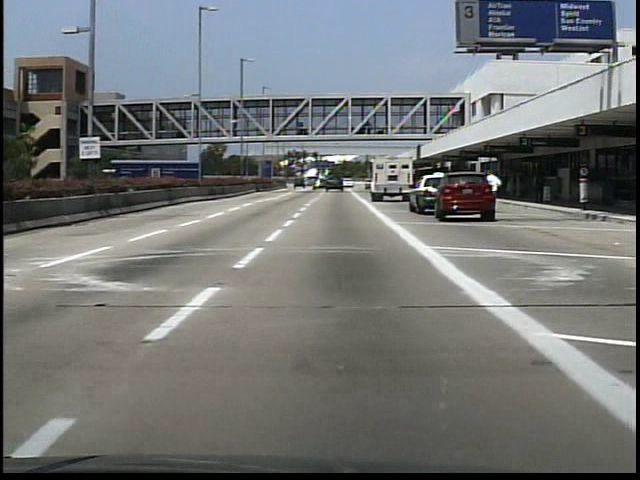person: (483, 170, 502, 222)
